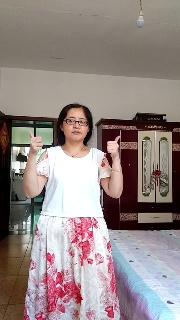hand: (28, 130, 42, 155), (106, 136, 119, 158)
